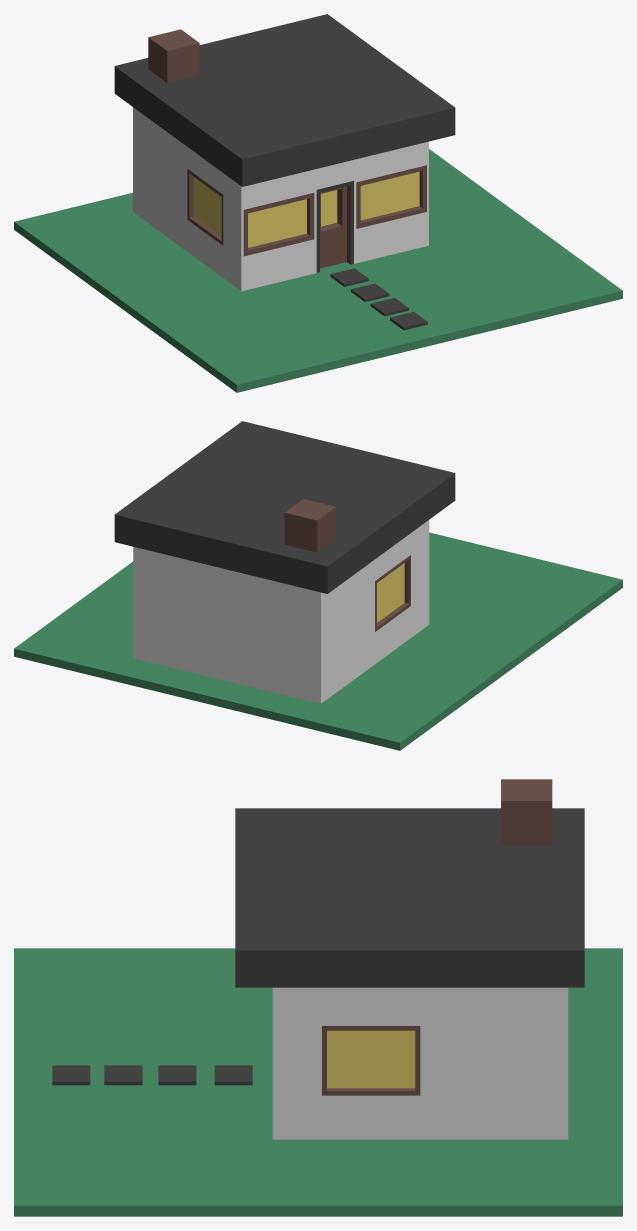
Rendered from house.fbx.
The picture shows the model from 3 angles, top to bottom: view 1: azimuth 30°, elevation 25°; view 2: azimuth 150°, elevation 25°; view 3: azimuth 270°, elevation 25°; orthographic projection. The views are drawn at different scales.
Visible parts, largest first — view 1: polySurface293; view 2: polySurface293; view 3: polySurface293.
Boxes of the visible parts, x1,y1,x2,y2 form: polySurface293: (14,14,622,392); polySurface293: (14,421,622,750); polySurface293: (14,779,622,1216).
Bounding box in the file's own units: 140 × 64.16 × 140.
